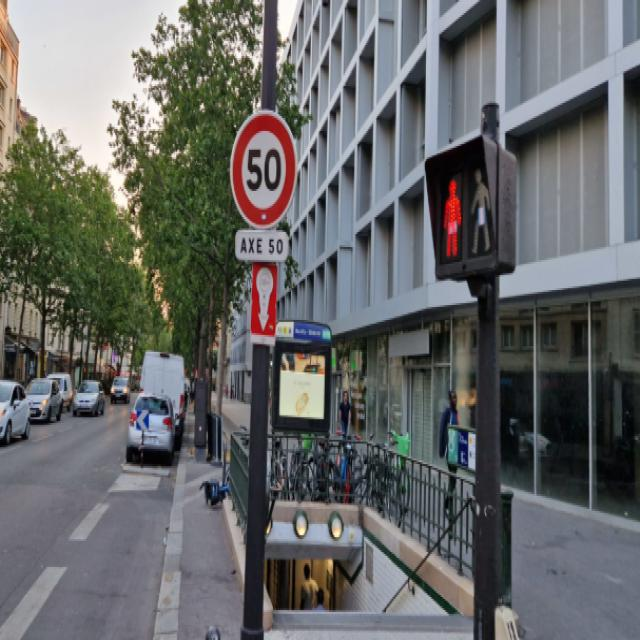speed_50: (229, 108, 297, 230)
